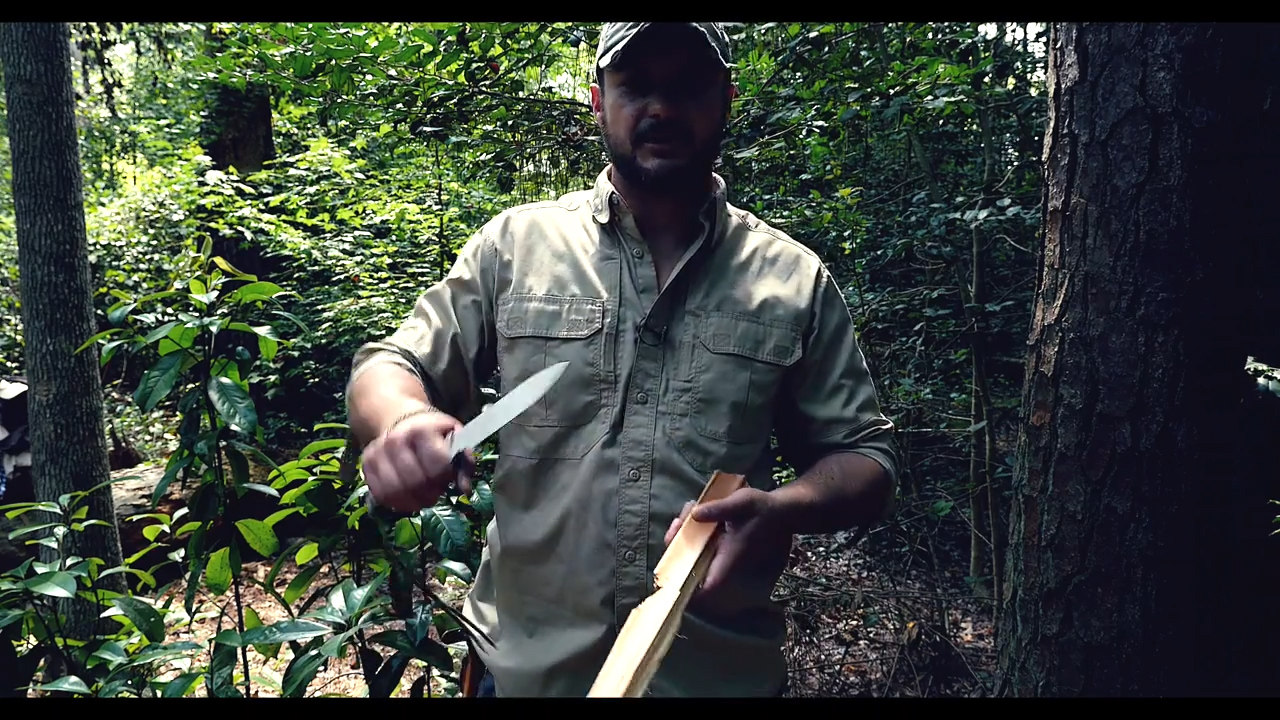knife: (394, 350, 575, 501)
